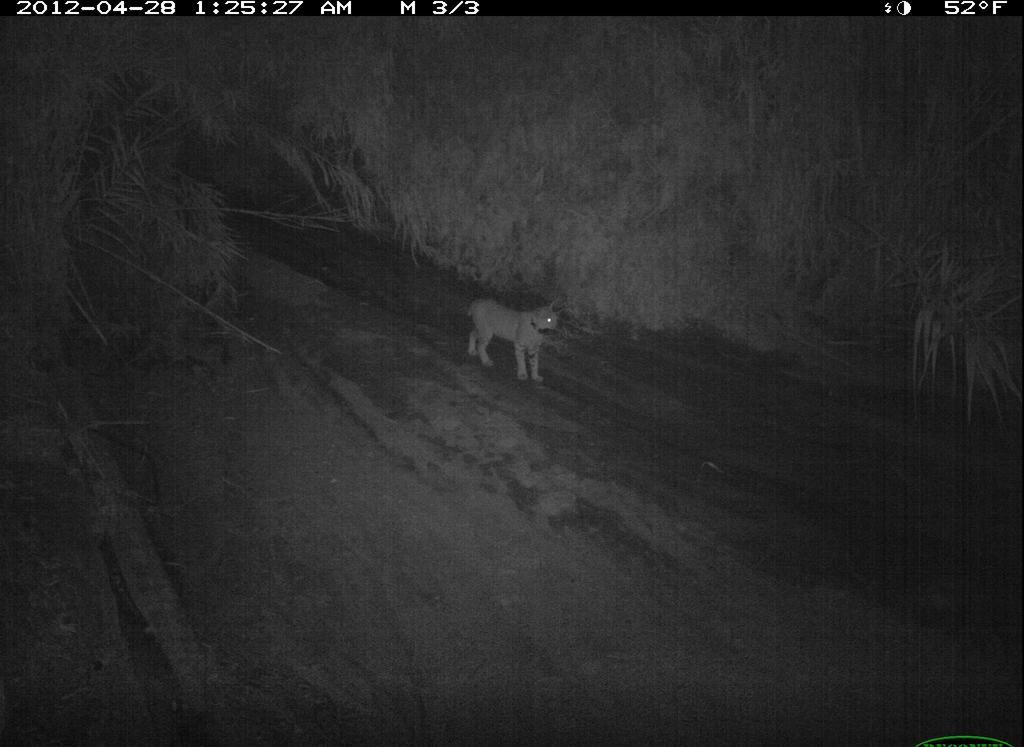bobcat: (926, 580, 1024, 747)
